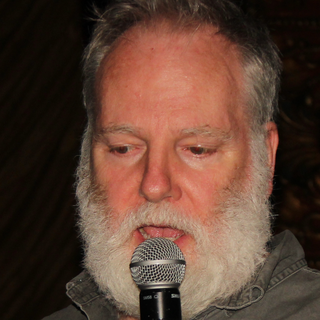eye: (177, 141, 220, 161), (103, 139, 139, 158)
